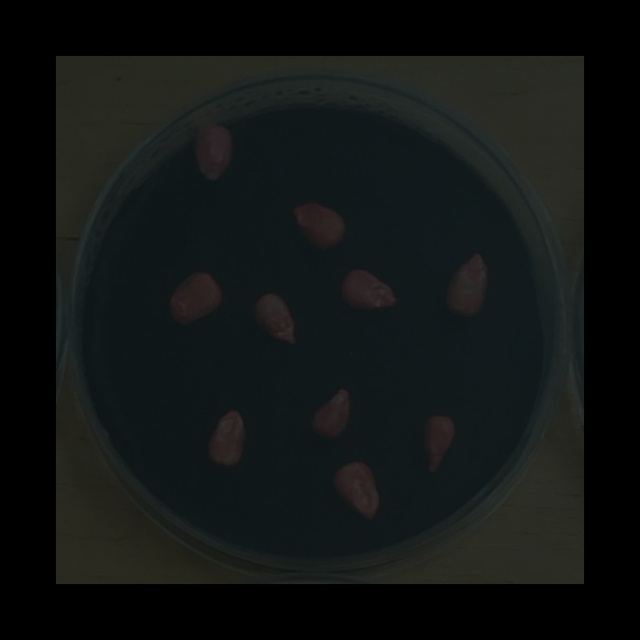Zea mays: (324, 455, 386, 527), (439, 249, 494, 324), (163, 267, 226, 332), (286, 196, 352, 256), (336, 262, 403, 316), (247, 287, 301, 352), (189, 118, 239, 187), (201, 405, 250, 473), (418, 409, 463, 482), (305, 383, 355, 445)
